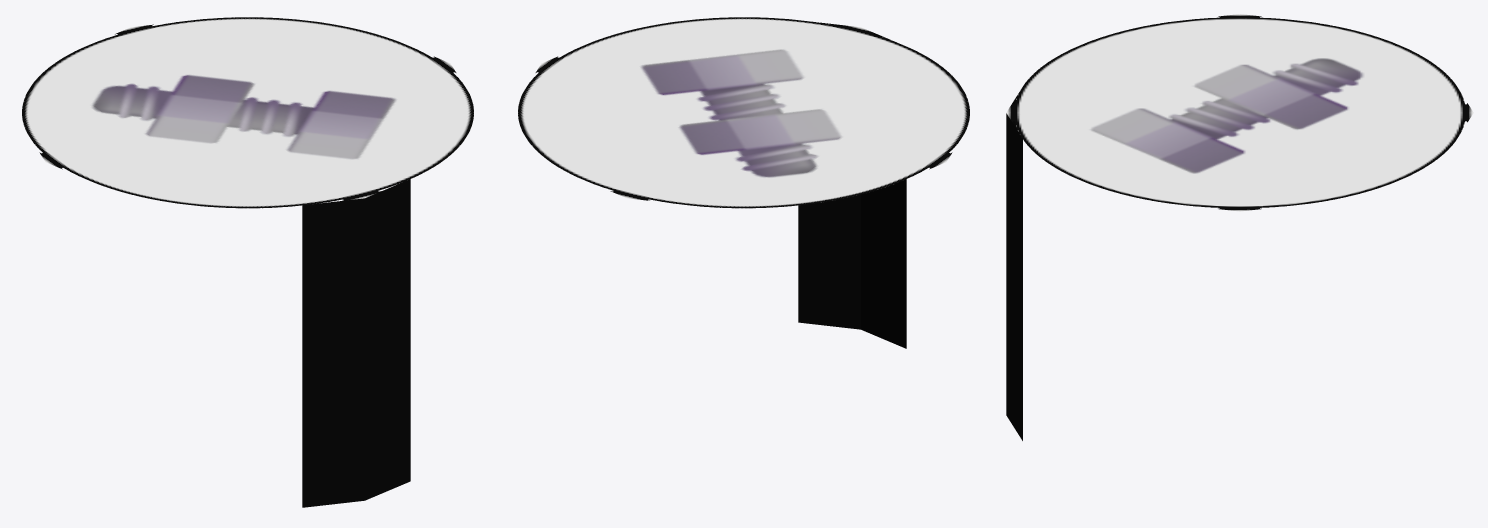
The model's file is cylinder_nut.obj.
The picture shows the model from 3 angles, left to right: view 1: azimuth 30°, elevation 25°; view 2: azimuth 150°, elevation 25°; view 3: azimuth 270°, elevation 25°; orthographic projection.
Visible parts, largest first — view 1: Cylinder; view 2: Cylinder; view 3: Cylinder.
Boxes of the visible parts, x1,y1,x2,y2 form: Cylinder: (22,17,473,507); Cylinder: (518,17,969,348); Cylinder: (1006,14,1473,440).
Bounding box in the file's own units: 0.0701 × 0.05 × 0.0701.
Materials: 1 (1 with a texture image).
